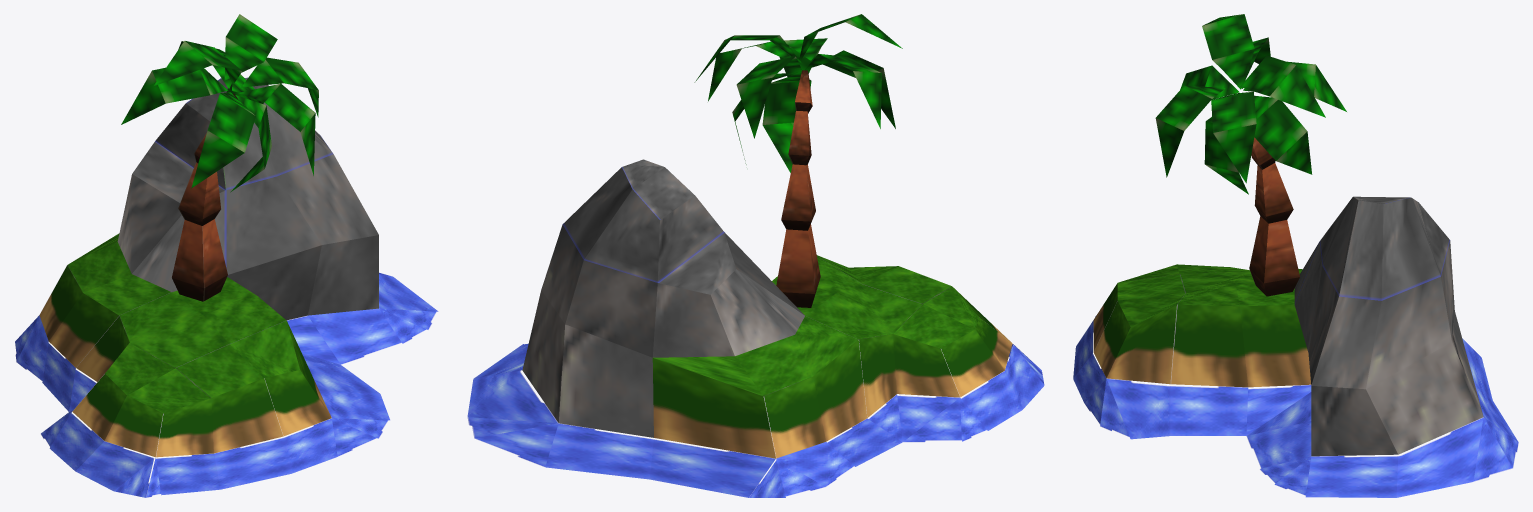
Rendered from preview.obj.
3 views of the same model, side by side, from view 1: azimuth 30°, elevation 25°; view 2: azimuth 150°, elevation 25°; view 3: azimuth 270°, elevation 25° (orthographic). The views are drawn at different scales.
Visible parts, largest first — view 1: Dec2; view 2: Dec2; view 3: Dec2.
Part boxes in pixels (x1,y1,x2,y2): Dec2: [15, 14, 438, 497]; Dec2: [467, 14, 1044, 497]; Dec2: [1073, 14, 1518, 497].
Bounding box in the file's own units: 5.14 × 4.25 × 4.81.
Materials: 5 (5 with a texture image).
